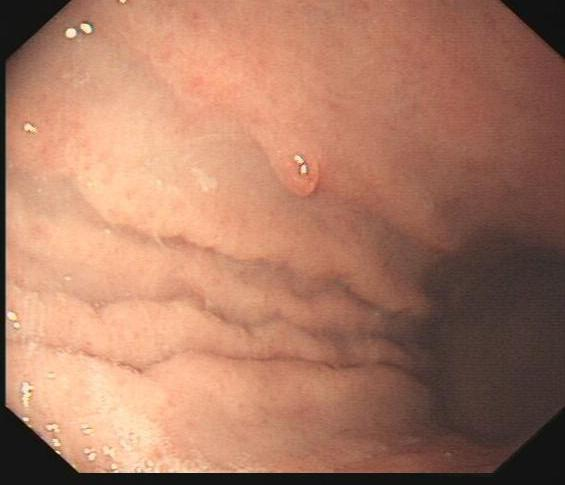Polyp: (256, 126, 336, 212)
